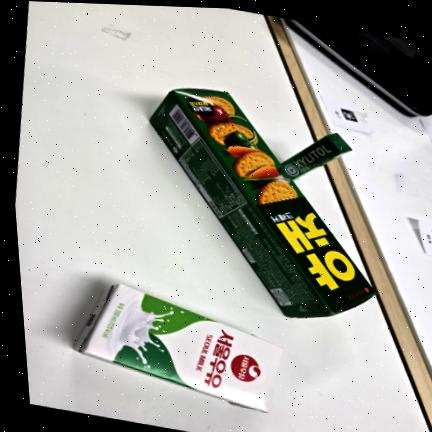cracker_vege: (150, 89, 375, 317)
gum_green: (282, 133, 351, 179)
milk_green: (74, 284, 282, 411)
